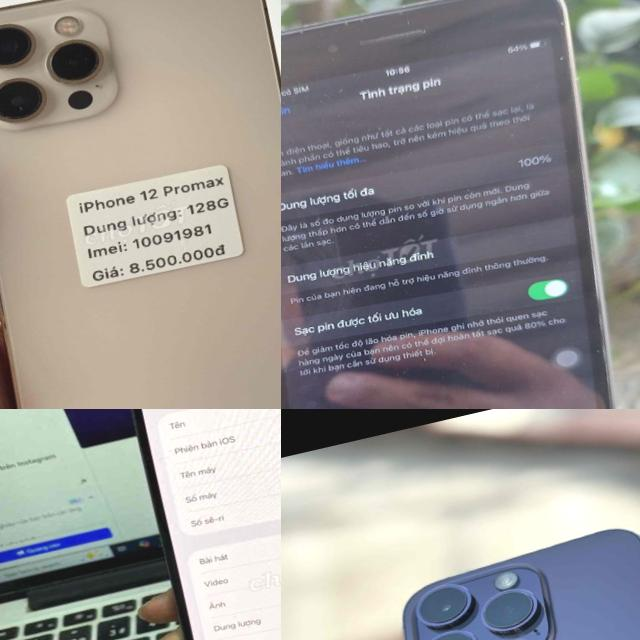gen_12_13: (0, 0, 281, 409)
gen_14: (98, 409, 281, 640), (349, 515, 640, 640)
gen_7_8: (281, 0, 640, 409)
scratch: (281, 0, 416, 49), (539, 10, 578, 69), (398, 20, 418, 35)
